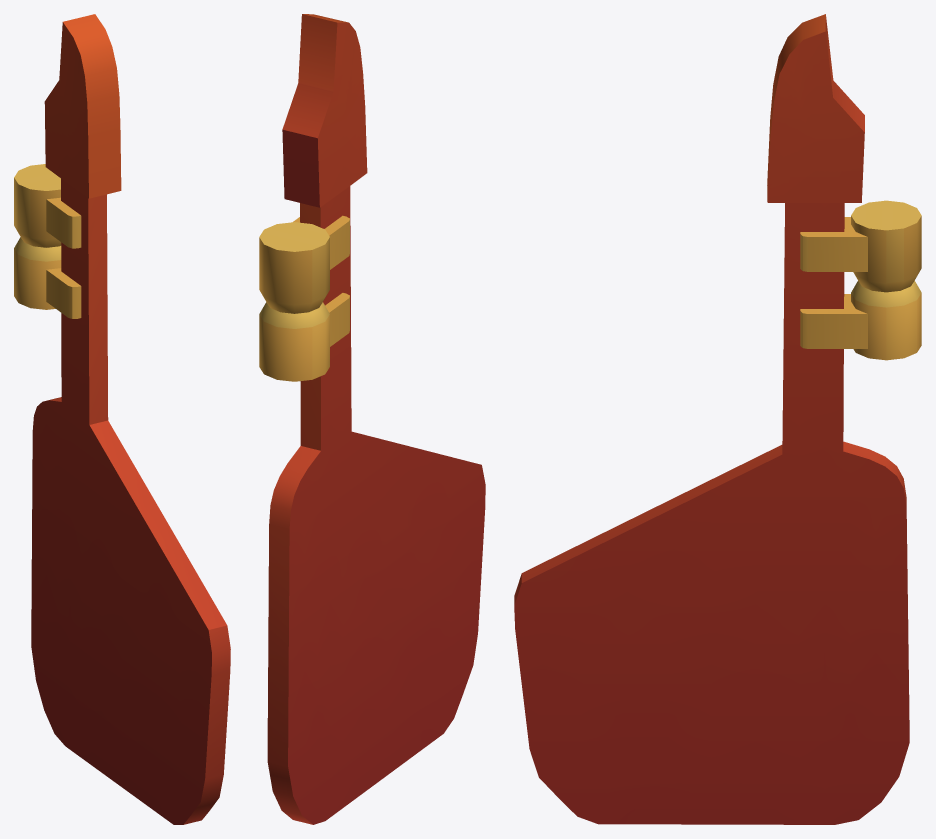
Rendered from Rudder.fbx.
The picture shows the model from 3 angles, left to right: view 1: azimuth 30°, elevation 25°; view 2: azimuth 150°, elevation 25°; view 3: azimuth 270°, elevation 25°; orthographic projection. The views are drawn at different scales.
Parts seen in each view (by area): view 1: Rudder; view 2: Rudder; view 3: Rudder.
Boxes of the visible parts, x1,y1,x2,y2 form: Rudder: (14,14,230,824); Rudder: (259,14,485,824); Rudder: (514,14,921,824).
Size of the model in its own units: 11.9 by 148 by 68.59.
